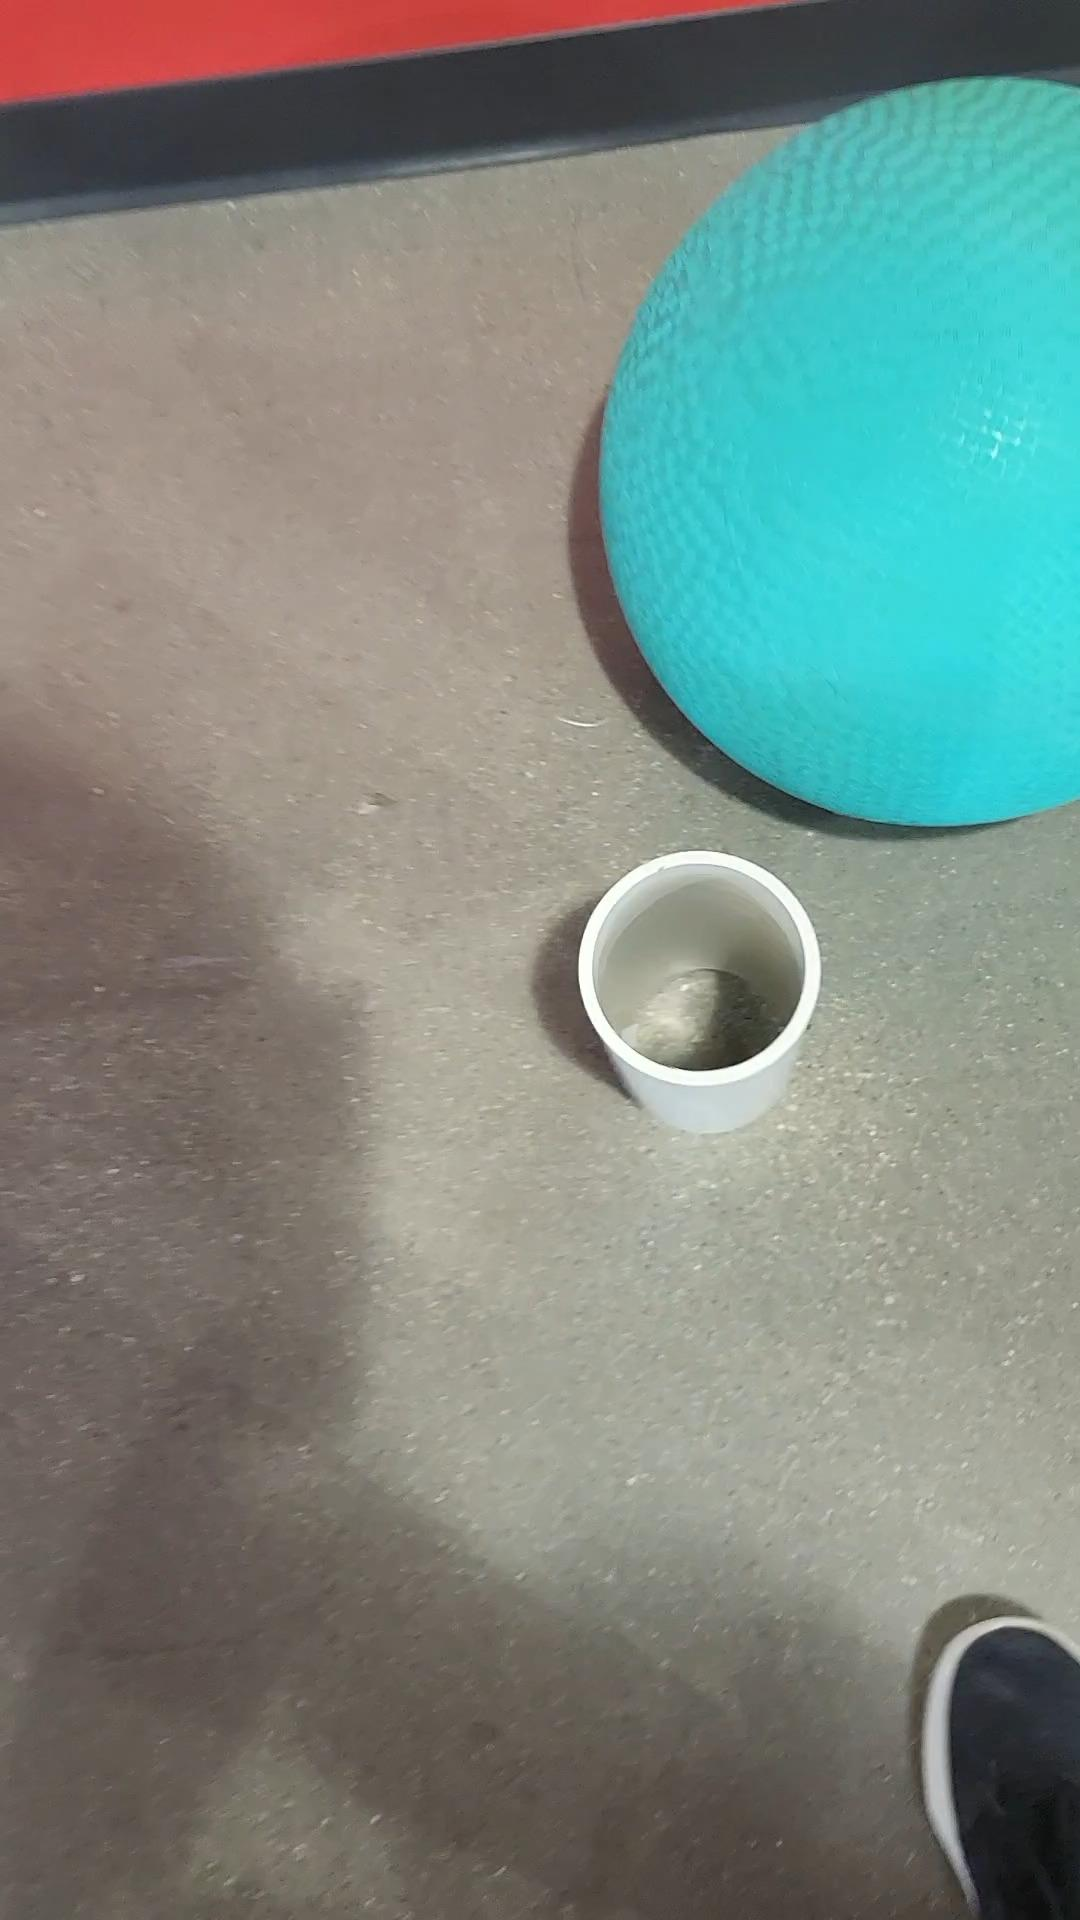algae: (561, 0, 1080, 840)
coral: (536, 856, 838, 1109)
